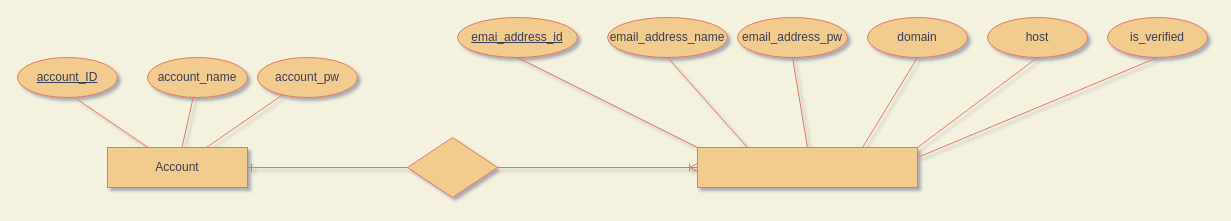
This 1231x221 diagram has some shape labels left out. The shapes that lost their labels are listed below. From the top down, each one's centre as x and y in pixels, then its label:
At (452,167): "has".
At (807,167): "Email_address".
